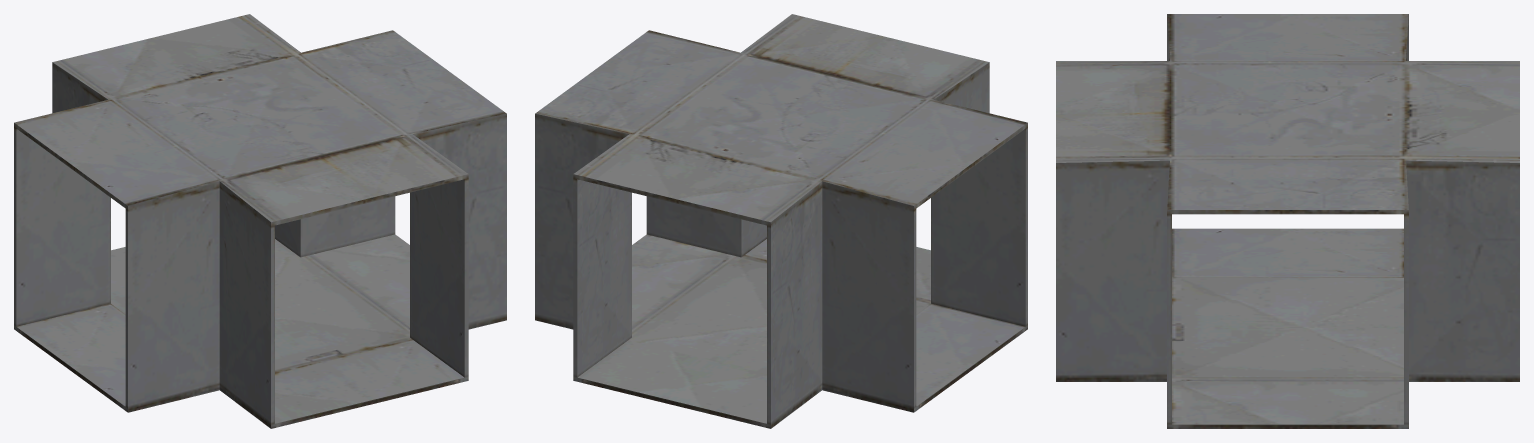
File: Urban_DuctIntersection4way_Model.fbx
3 views of the same model, side by side, from view 1: azimuth 30°, elevation 25°; view 2: azimuth 150°, elevation 25°; view 3: azimuth 270°, elevation 25° (orthographic). The views are drawn at different scales.
Parts seen in each view (by area): view 1: Urban_DuctIntersection4way_Mesh; view 2: Urban_DuctIntersection4way_Mesh; view 3: Urban_DuctIntersection4way_Mesh.
Boxes of the visible parts, x1,y1,x2,y2 form: Urban_DuctIntersection4way_Mesh: (14,14,506,428); Urban_DuctIntersection4way_Mesh: (535,14,1027,428); Urban_DuctIntersection4way_Mesh: (1056,14,1519,428).
Bounding box in the file's own units: 2 × 1.05 × 2.
